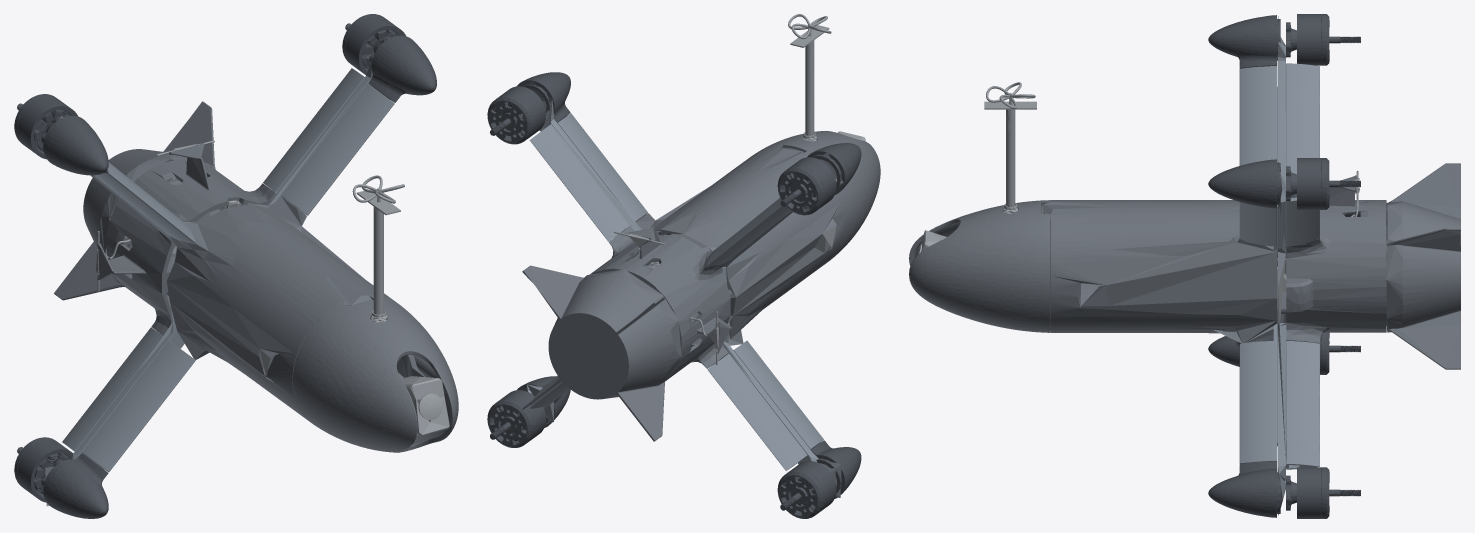
Rendered from racing-quad-streamlined.glb.
3 renders of one model, left to right at view 1: azimuth 30°, elevation 25°; view 2: azimuth 150°, elevation 25°; view 3: azimuth 270°, elevation 25°, orthographic. The views are drawn at different scales.
Parts seen in each view (by area): view 1: body, arms, motors, protrusions; view 2: body, arms, motors, protrusions; view 3: body, arms, motors, protrusions.
Boxes of the visible parts, x1,y1,x2,y2 form: body: [54, 101, 458, 452]; arms: [43, 56, 394, 506]; motors: [14, 14, 436, 518]; protrusions: [96, 140, 449, 435]; body: [522, 131, 880, 441]; arms: [527, 99, 843, 497]; motors: [487, 72, 861, 518]; protrusions: [614, 14, 865, 364]; body: [909, 163, 1460, 369]; arms: [1239, 37, 1319, 499]; motors: [1208, 14, 1360, 518]; protrusions: [909, 82, 1359, 325].
Size of the model in its own units: 0.285 by 0.2845 by 0.3994.
